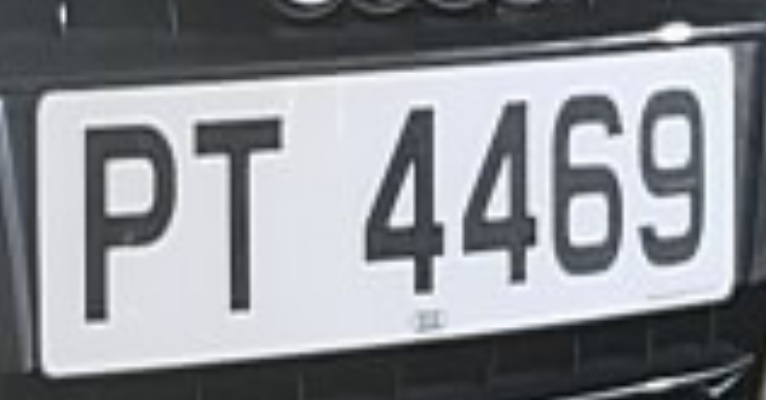4: (344, 81, 465, 346), (452, 76, 555, 331)
6: (548, 75, 646, 315)
9: (639, 69, 732, 300)
P: (42, 107, 184, 363)
T: (162, 98, 307, 357)
